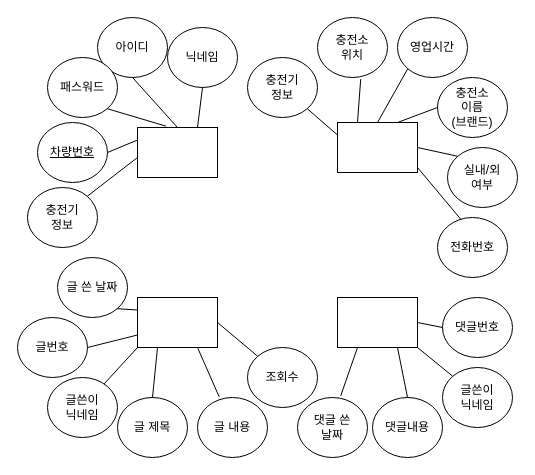
Image size: 535x475. Some labels were removed from this diagram. Here are the shapes that lost their labels. From the top down, the box of each, then its label:
(136, 126, 218, 178): 회원
(336, 122, 418, 172): 전기차 충전소
(136, 296, 218, 348): 게시판
(336, 296, 418, 348): 댓글
